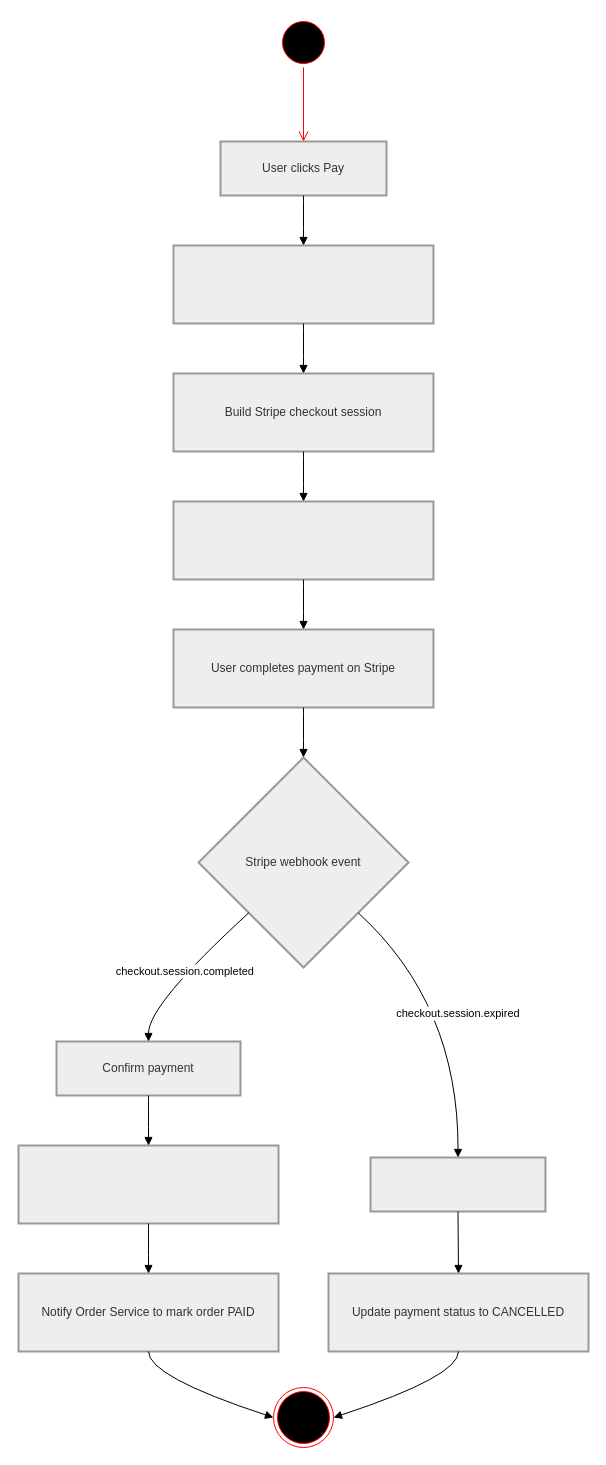
The diagram is 606 pixels wide and 1465 high, and some of its shapes have lost their labels. The centre of each missing label's shape, as x and y in pixels:
"Cancel payment" goes at (x=457, y=1184).
"Create payment record with PENDING status" goes at (x=303, y=284).
"Return session URL to frontend" goes at (x=303, y=540).
"Update payment status to SUCCESS" goes at (x=148, y=1184).
